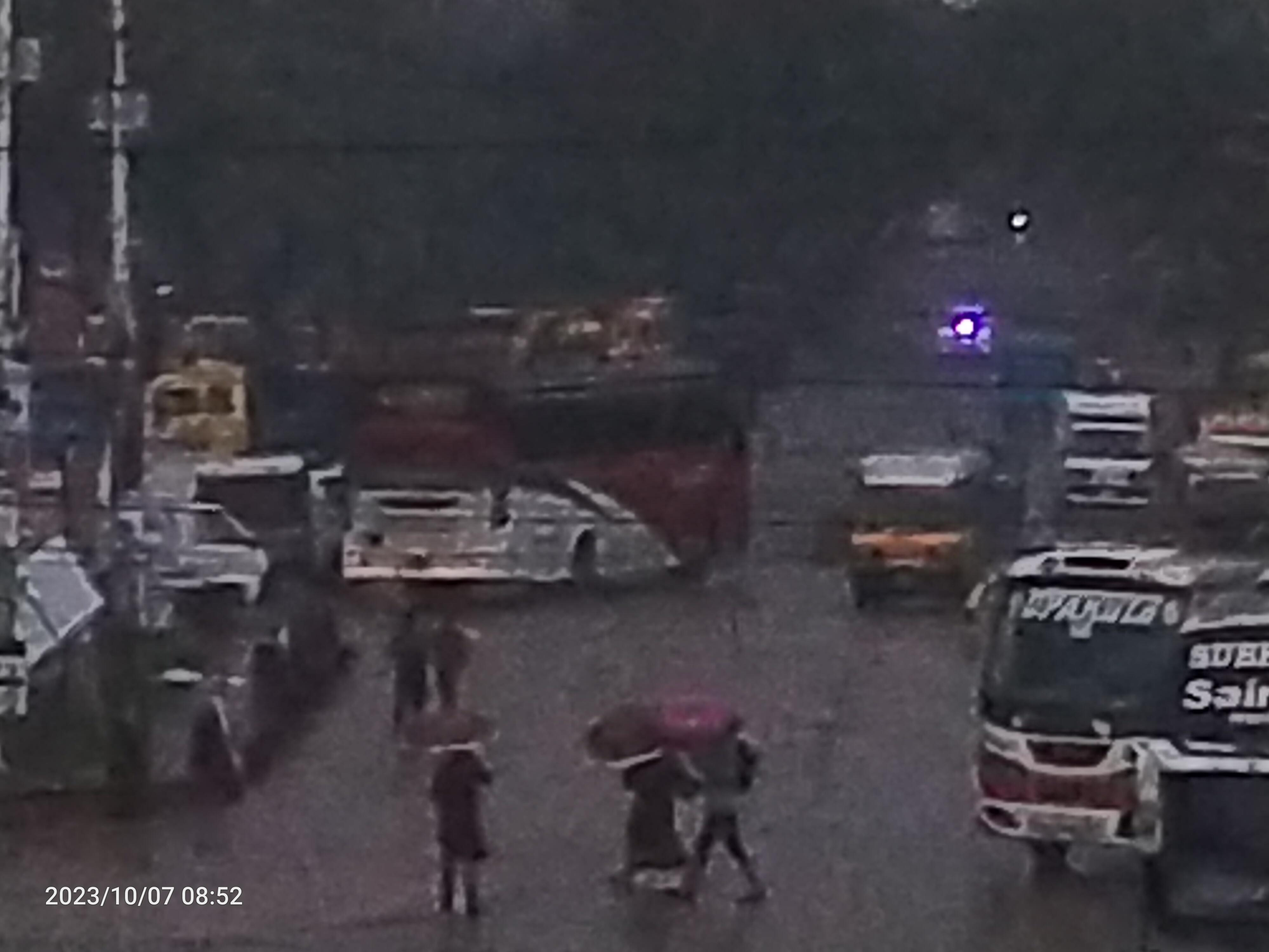Bus: (307, 349, 778, 600), (949, 526, 1269, 866)
Car: (829, 420, 1038, 618), (1032, 364, 1198, 523)
